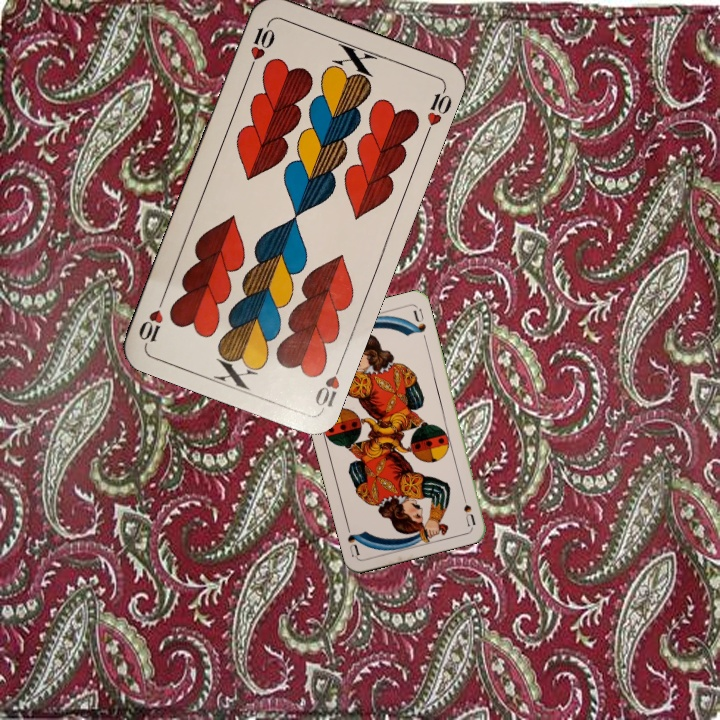H10: (310, 357, 345, 413), (244, 18, 278, 75)
SU: (458, 487, 478, 528)
